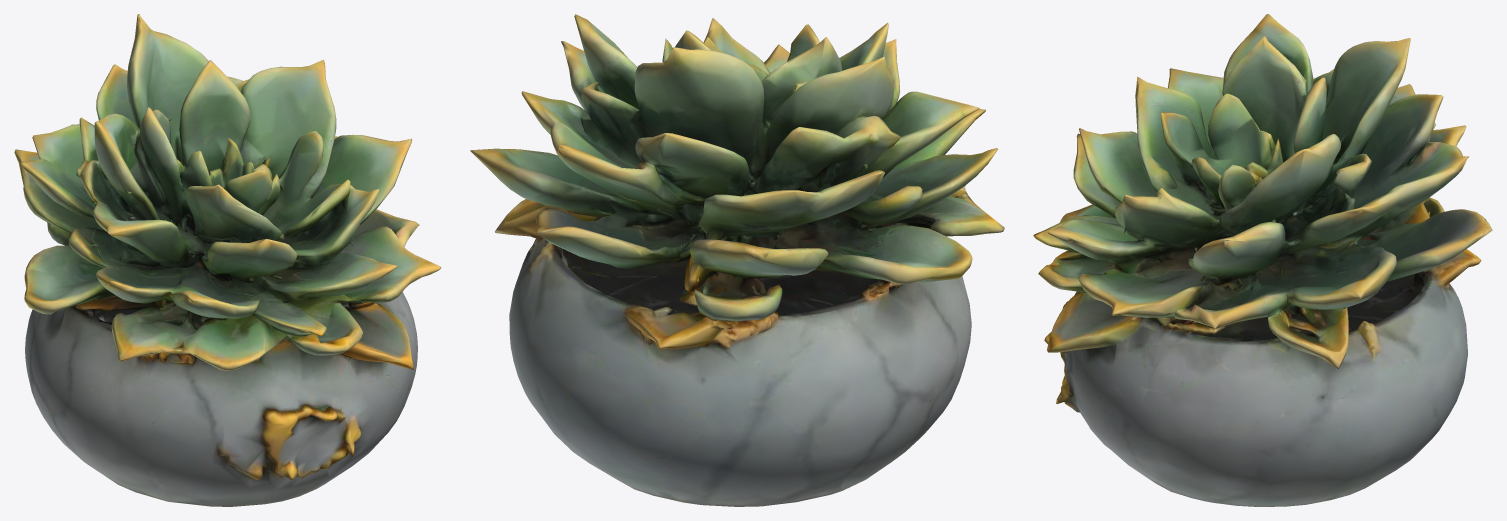
Rendered from apex-flora-suculenta.glb.
3 views of the same model, side by side, from view 1: azimuth 30°, elevation 25°; view 2: azimuth 150°, elevation 25°; view 3: azimuth 270°, elevation 25° (orthographic). The views are drawn at different scales.
Size of the model in its own units: 1.98 by 1.96 by 2.
1 material, 1 textured.
